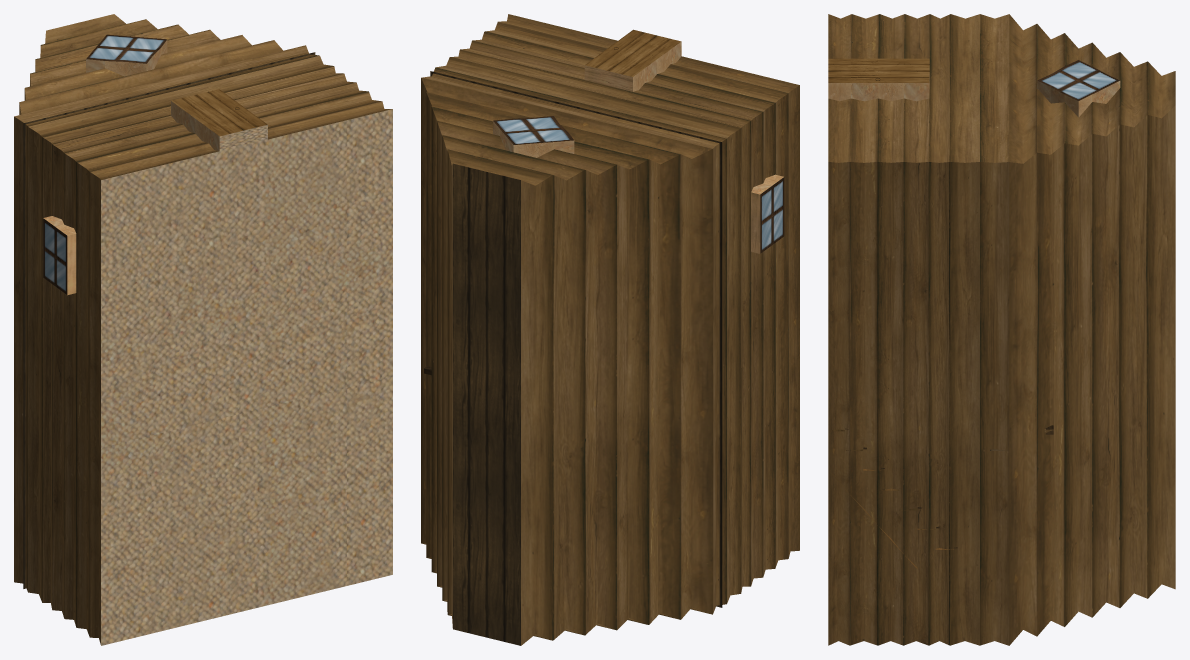
Rendered from Interior_Log_House_E.fbx.
The picture shows the model from 3 angles, left to right: view 1: azimuth 30°, elevation 25°; view 2: azimuth 150°, elevation 25°; view 3: azimuth 270°, elevation 25°; orthographic projection. The views are drawn at different scales.
Visible parts, largest first — view 1: Interior_Log_House_E; view 2: Interior_Log_House_E; view 3: Interior_Log_House_E.
Boxes of the visible parts, x1,y1,x2,y2 form: Interior_Log_House_E: (14,14,392,645); Interior_Log_House_E: (421,14,799,645); Interior_Log_House_E: (828,14,1175,645).
Bounding box in the file's own units: 67.47 × 64.86 × 105.
